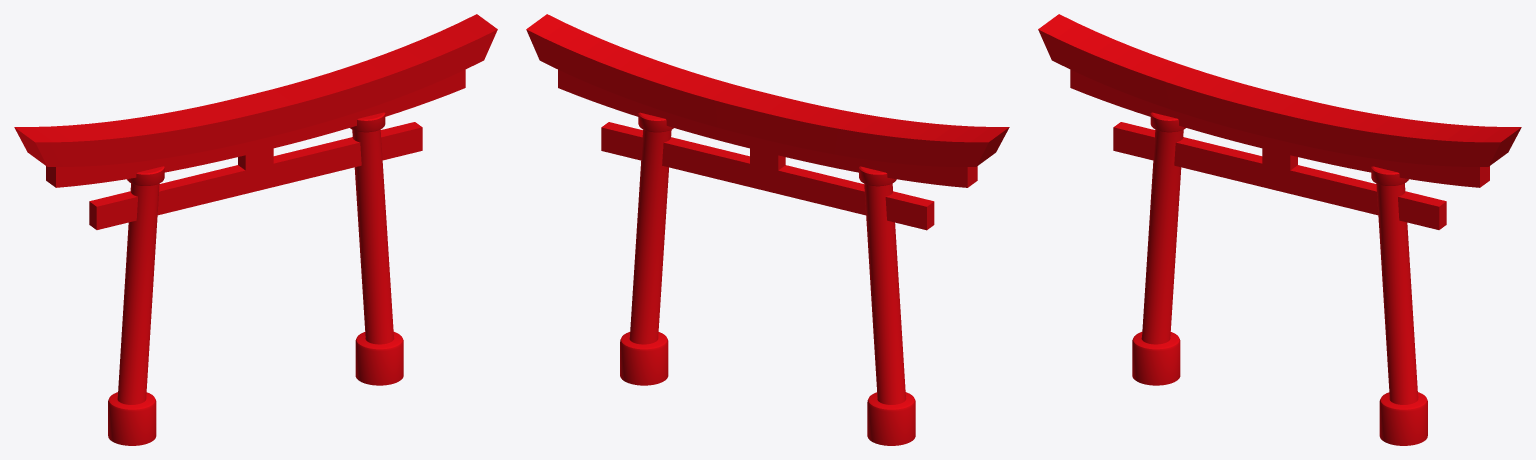
The model's file is Tori.fbx.
The picture shows the model from 3 angles, left to right: view 1: azimuth 30°, elevation 25°; view 2: azimuth 150°, elevation 25°; view 3: azimuth 330°, elevation 25°; orthographic projection.
Parts seen in each view (by area): view 1: Torii_Main; view 2: Torii_Main; view 3: Torii_Main.
Boxes of the visible parts, left/top/right/bottom form: Torii_Main: left=14, top=14, right=497, bottom=445; Torii_Main: left=526, top=14, right=1009, bottom=445; Torii_Main: left=1038, top=14, right=1521, bottom=445.
Size of the model in its own units: 13.57 by 1.23 by 9.18.
